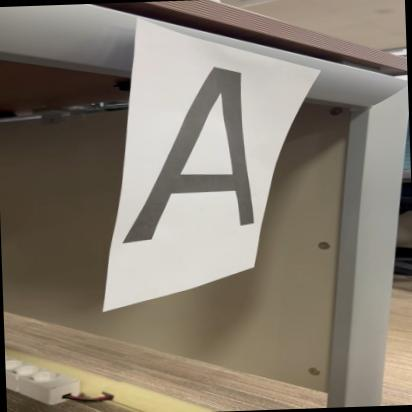seat: (100, 63, 283, 244)
